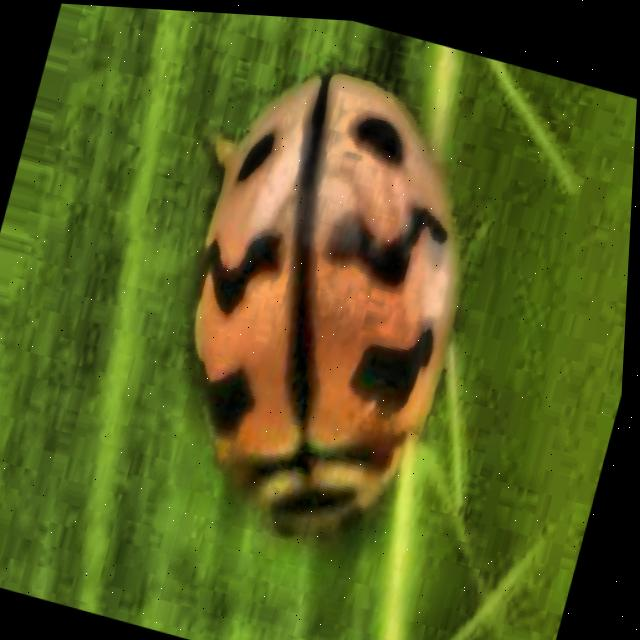Asian-Lady-beetle: (71, 4, 542, 640)
